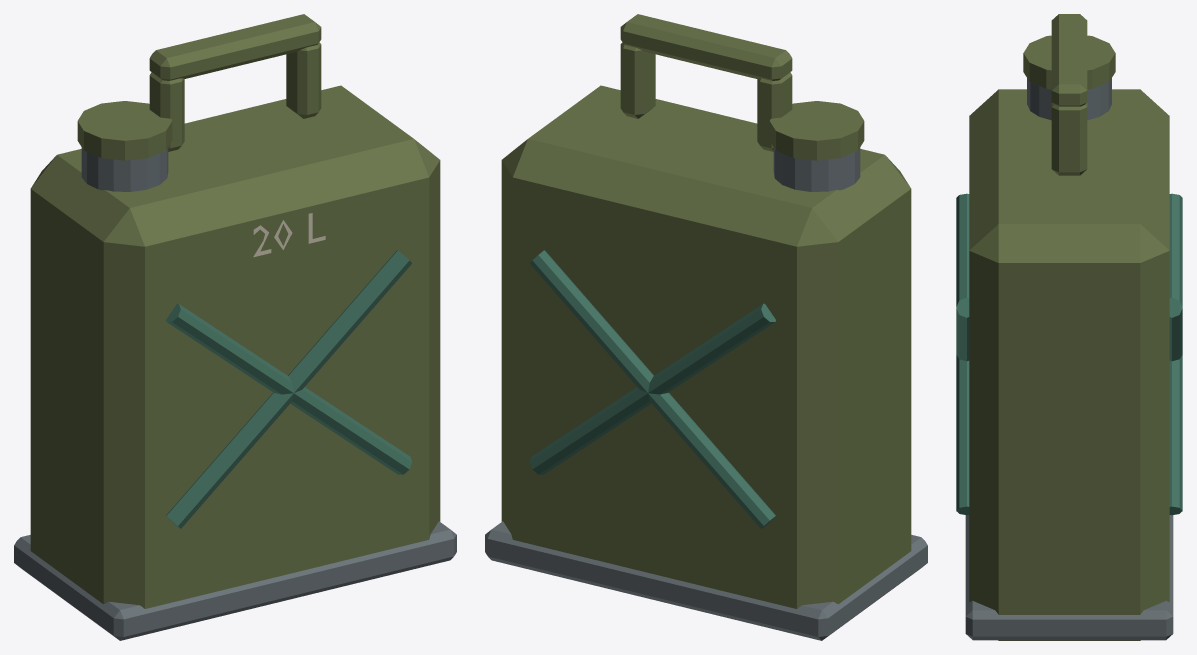
Rendered from loot_jerry_can.glb.
The picture shows the model from 3 angles, left to right: view 1: azimuth 30°, elevation 25°; view 2: azimuth 150°, elevation 25°; view 3: azimuth 270°, elevation 25°; orthographic projection. The views are drawn at different scales.
Visible parts, largest first — view 1: loot_jerry_can; view 2: loot_jerry_can; view 3: loot_jerry_can.
Part boxes in pixels (x1,y1,x2,y2): loot_jerry_can: (14,14,456,640); loot_jerry_can: (485,14,927,640); loot_jerry_can: (956,14,1182,640).
Bounding box in the file's own units: 0.326 × 0.4905 × 0.192.
